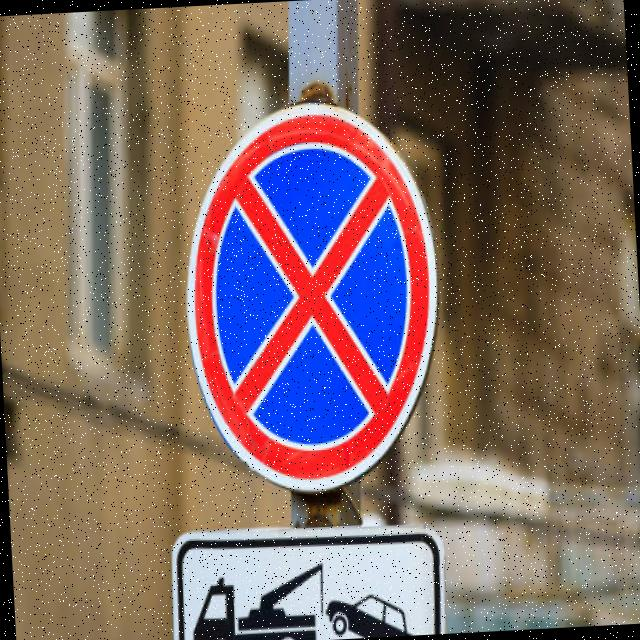no_parking: (168, 100, 457, 506)
